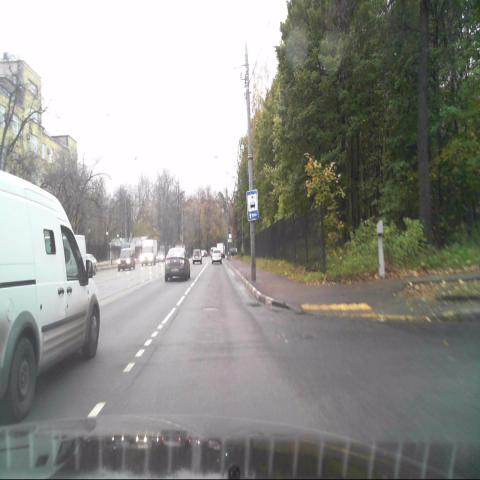7_5: (246, 189, 258, 222)
